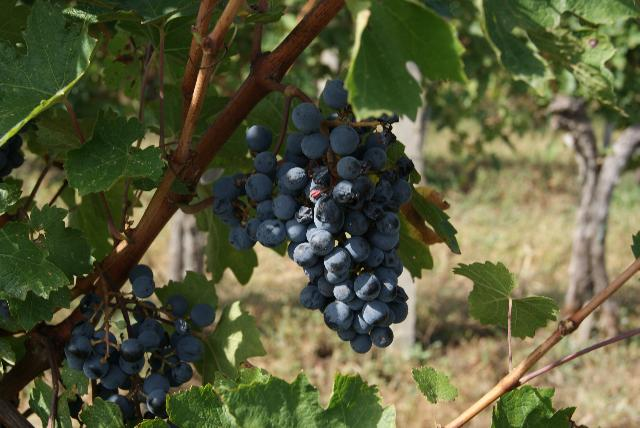grapes: (211, 79, 429, 352), (68, 265, 215, 420)
